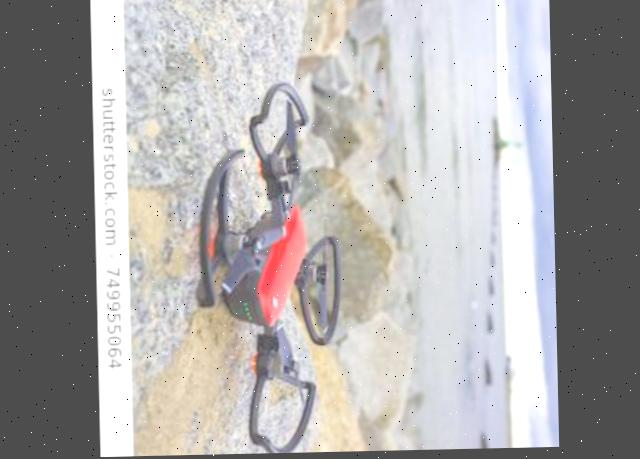drone: (166, 71, 388, 456)
